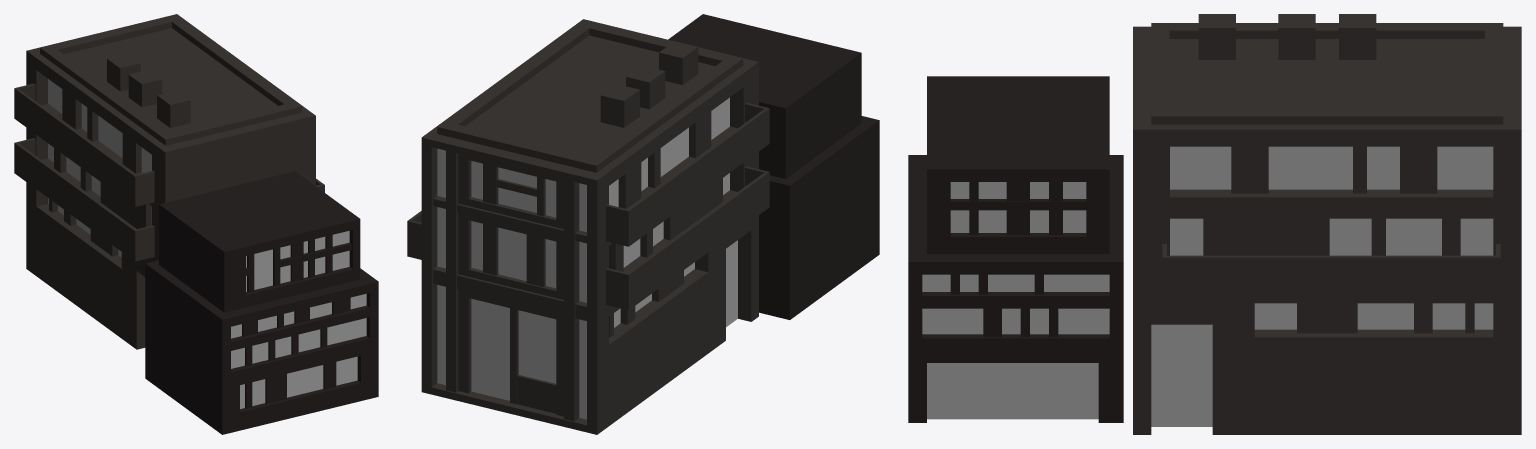
File: SideBuildings2-2.fbx
3 renders of one model, left to right at view 1: azimuth 30°, elevation 25°; view 2: azimuth 150°, elevation 25°; view 3: azimuth 270°, elevation 25°, orthographic. The views are drawn at different scales.
Visible parts, largest first — view 1: SideBuildings22; view 2: SideBuildings22; view 3: SideBuildings22.
Boxes of the visible parts, x1,y1,x2,y2 form: SideBuildings22: (14, 14, 378, 434); SideBuildings22: (407, 14, 879, 434); SideBuildings22: (908, 14, 1521, 434).
Size of the model in its own units: 6.68 by 7.96 by 13.1.
2 materials, 1 textured.
